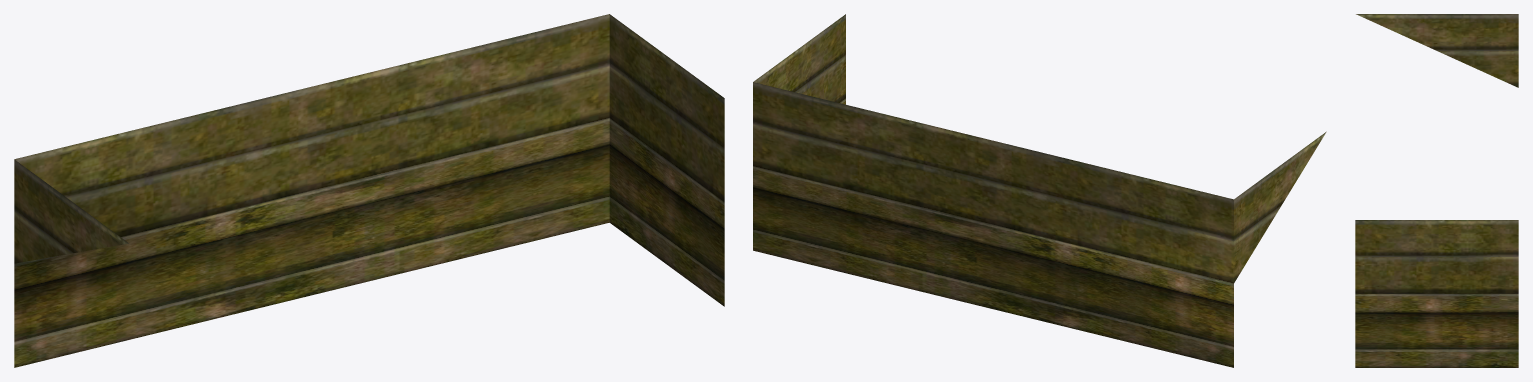
Rendered from OVERHILL_A_01_OBJECT110.fbx.
3 views of the same model, side by side, from view 1: azimuth 30°, elevation 25°; view 2: azimuth 150°, elevation 25°; view 3: azimuth 270°, elevation 25° (orthographic). The views are drawn at different scales.
Visible parts, largest first — view 1: OVERHILL_A_01_OBJECT110; view 2: OVERHILL_A_01_OBJECT110; view 3: OVERHILL_A_01_OBJECT110.
Part boxes in pixels (x1,y1,x2,y2): OVERHILL_A_01_OBJECT110: (14, 14, 724, 367); OVERHILL_A_01_OBJECT110: (753, 14, 1326, 367); OVERHILL_A_01_OBJECT110: (1355, 14, 1518, 367).
Bounding box in the file's own units: 29852 × 10000 × 10000.
Materials: 2 (2 with a texture image).
